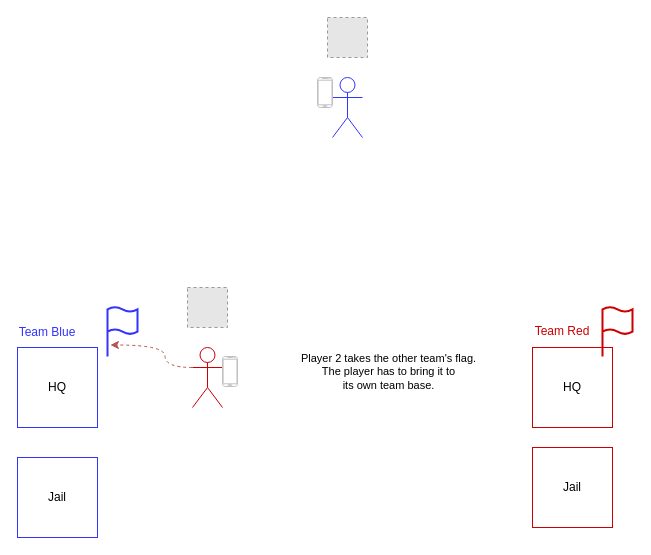
This 651x555 diagram has some shape labels left out. Grey dashed boxes stand in for pictures. The shapes that lost their labels are listed below. From the top down, each one's centre as x and y in pixels, then its label:
At pixel 347 107: "Player 3".
At pixel 207 377: "Player 2".
